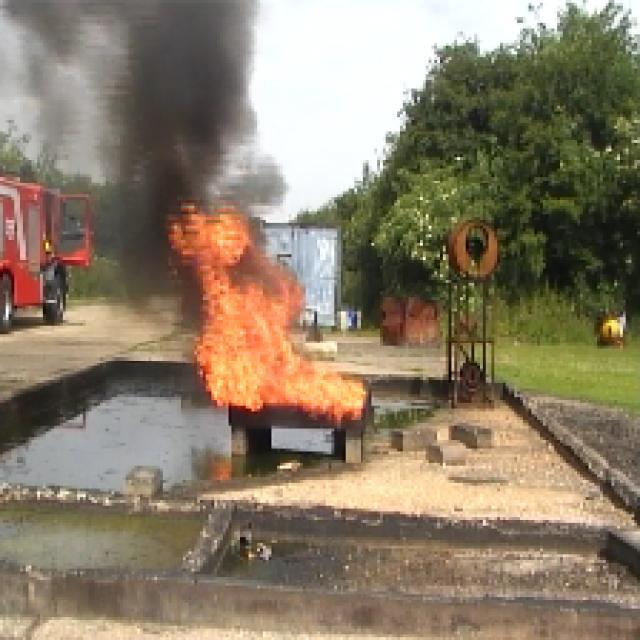Fire: (171, 234, 367, 417)
Smoke: (112, 8, 246, 190)
